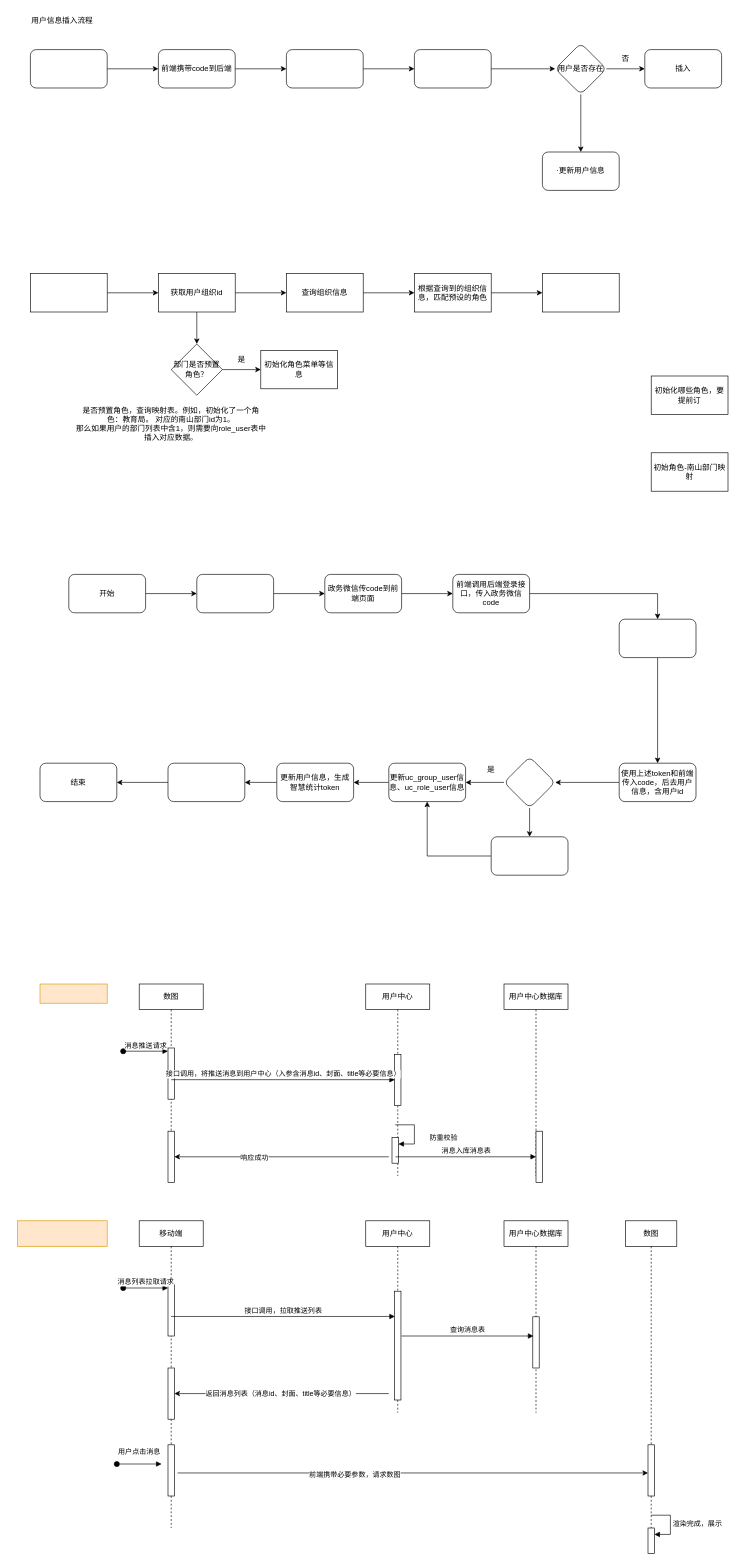
Image size: 739x1565. Some labels were removed from this diagram. Each missing label, with the centre of its shape:
"初始化我们用户体系" goes at (580,292).
"后端接口根据corpid和secret，获取政务微信token" goes at (657,638).
"后端根据配置，获取应用的token" goes at (324,68).
"插入用户信息" goes at (529,855).
"政务微信点击应用" goes at (235,593).
"根据应用token，拼接用户code，去请求用户信息" goes at (452,68).
"消息推送流程" goes at (73,993).
"用户存在？" goes at (529,782).
"用户点击应用" goes at (68,68).
"移动端消息列表拉取" goes at (62,1233).
"获取到用户信息" goes at (68,292).
"返回token，登录成功" goes at (206,782).
